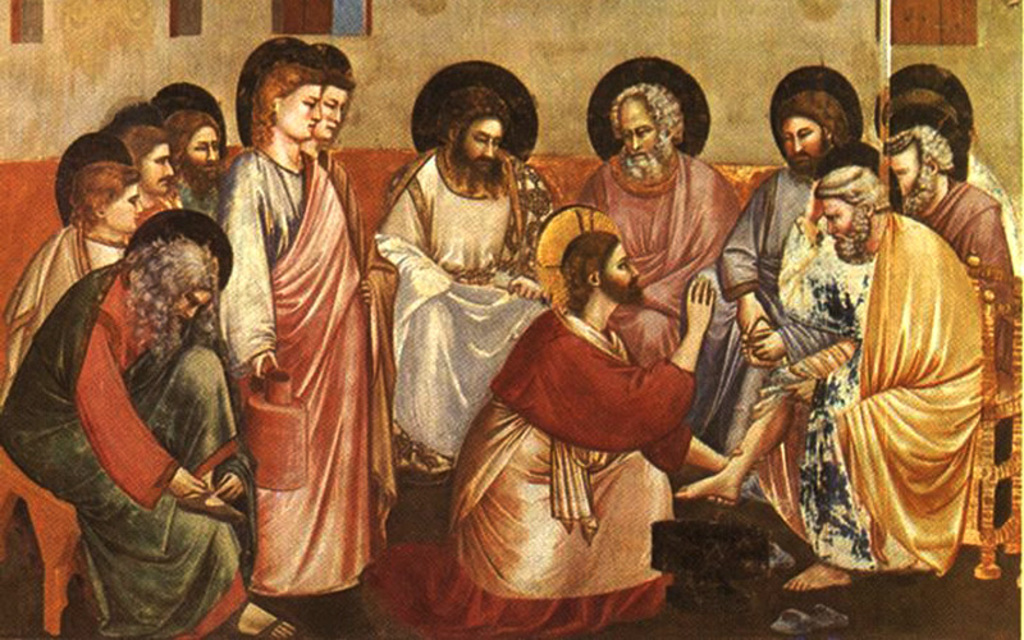Person: (0, 36, 1020, 640)
